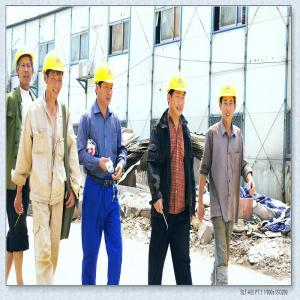yellow: (42, 48, 66, 102), (167, 69, 187, 119), (93, 61, 114, 108), (15, 46, 36, 91), (219, 79, 238, 125)
